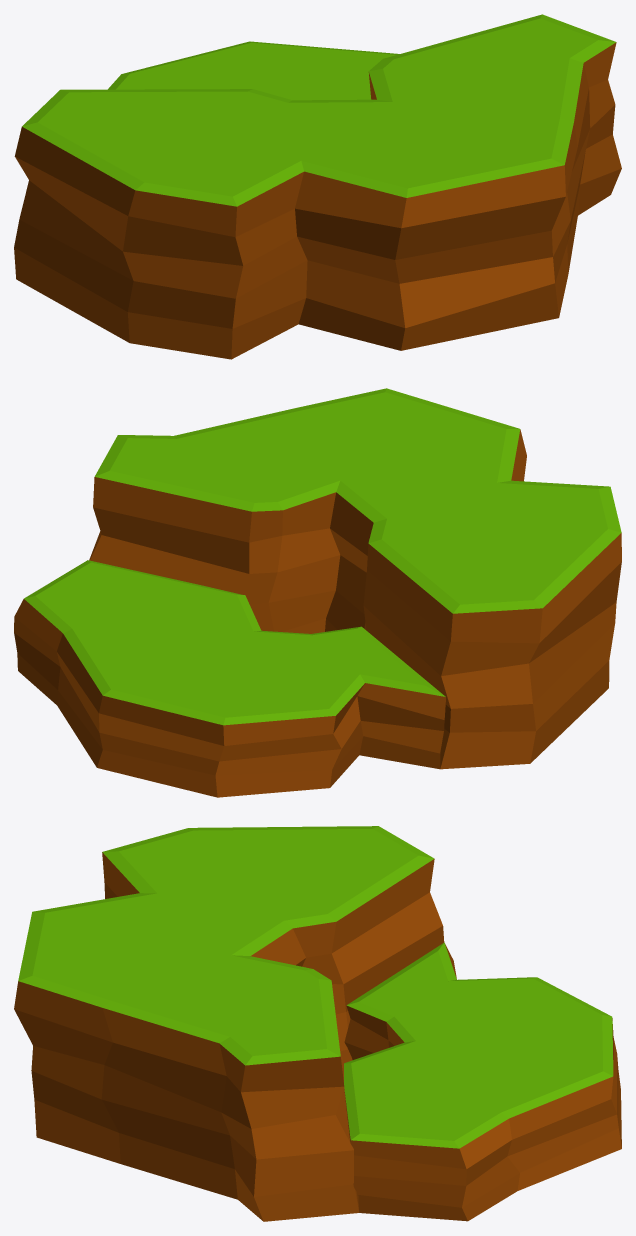
Rendered from land_special_01.fbx.
3 views of the same model, one above another, from view 1: azimuth 30°, elevation 25°; view 2: azimuth 150°, elevation 25°; view 3: azimuth 270°, elevation 25° (orthographic). The views are drawn at different scales.
Parts seen in each view (by area): view 1: Plane.008; view 2: Plane.008; view 3: Plane.008.
Part boxes in pixels (box(x1,y1,x2,y2)): Plane.008: box(14, 14, 621, 359); Plane.008: box(14, 388, 621, 797); Plane.008: box(14, 826, 621, 1221).
Size of the model in its own units: 1207 by 386 by 1231.
1 material, 1 textured.
